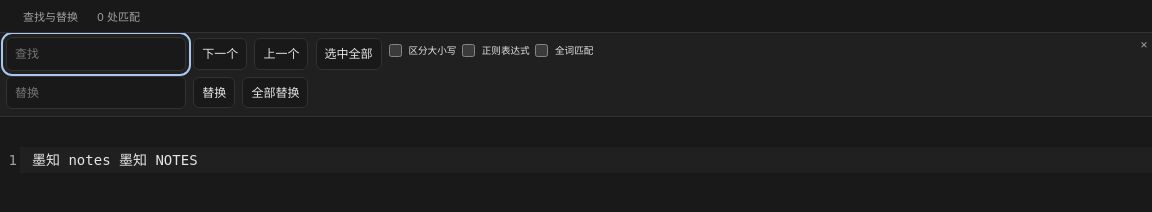
Test case: editor find and replace › commits panel input and replaces only the selected occurrence through the visible button
In the field named "search": (96,54) [6,37,186,71], type "墨知"
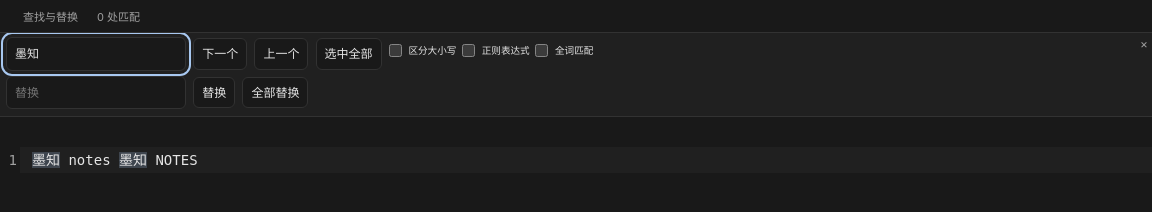
In the field named "replace": (96,93) [6,76,186,109], type "墨烛"
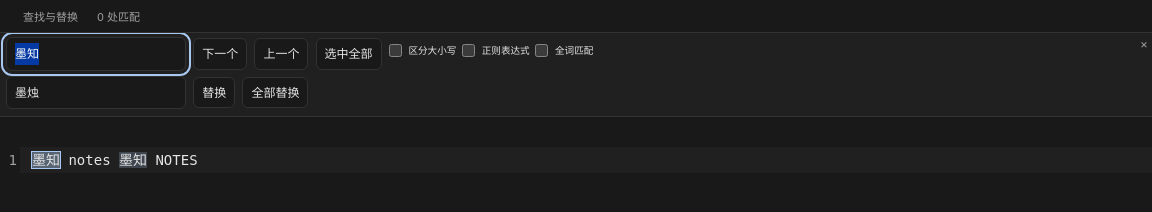
Click the button named "replace": (214,93) [193,77,235,108]
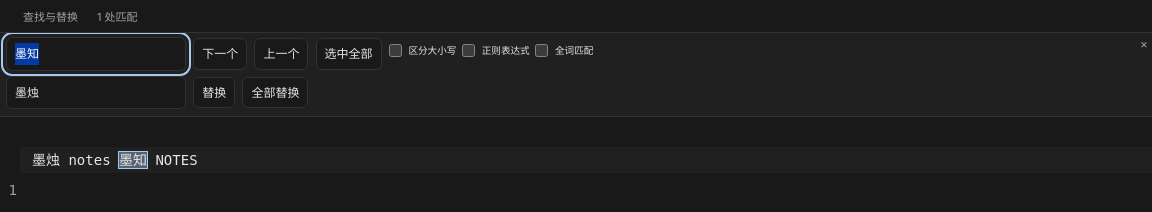
Result: the text box labelled "墨烛 notes 墨知 NOTES" is shown at [20,147,1151,173]
